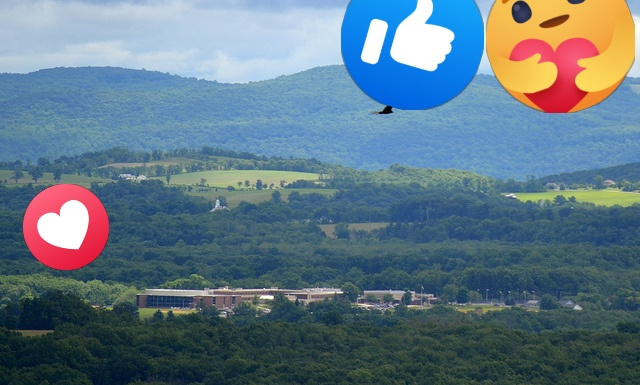care: (486, 0, 635, 113)
like: (341, 0, 484, 110)
love: (23, 184, 109, 270)
